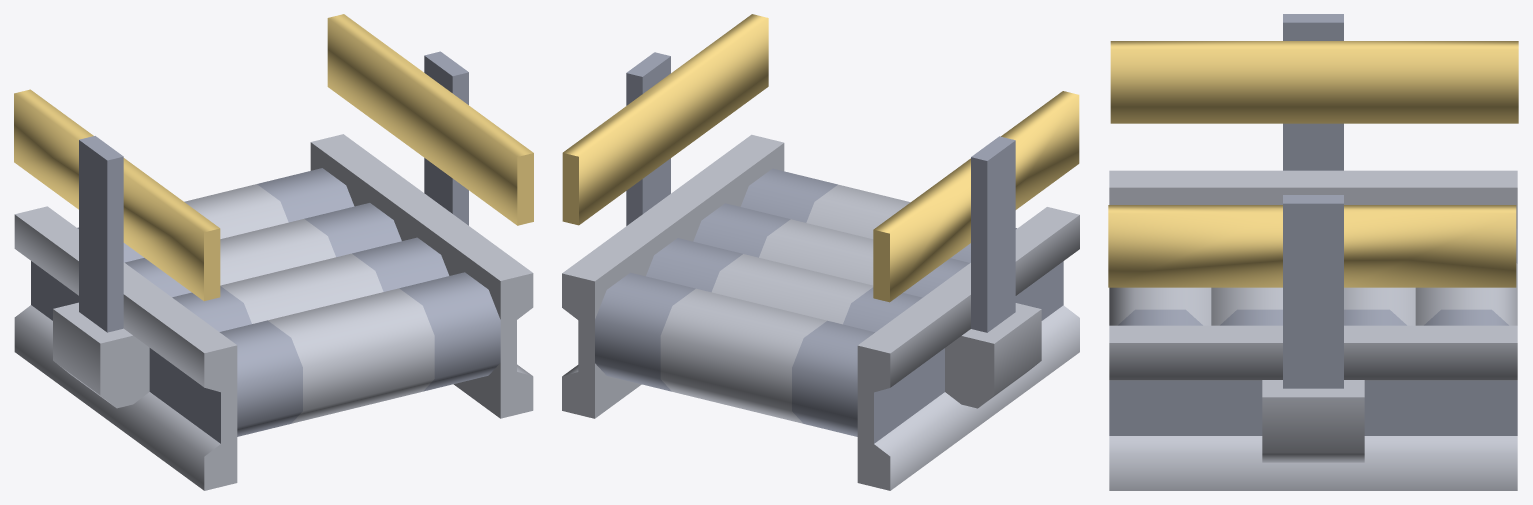
Rendered from conveyor-bars-stripe-fence.fbx.
3 views of the same model, side by side, from view 1: azimuth 30°, elevation 25°; view 2: azimuth 150°, elevation 25°; view 3: azimuth 270°, elevation 25° (orthographic). The views are drawn at different scales.
Parts seen in each view (by area): view 1: Group.009, Group.007, Group.008; view 2: Group.009, Group.007, Group.008; view 3: Group.007, Group.008, Group.009.
Part boxes in pixels (x1,y1,x2,y2): Group.009: (77,168,500,436); Group.007: (14,14,533,408); Group.008: (14,134,533,490); Group.009: (595,168,1016,436); Group.007: (562,14,1079,408); Group.008: (562,134,1079,490); Group.007: (1108,14,1518,462); Group.008: (1109,170,1517,490); Group.009: (1109,228,1517,325).
Bounding box in the file's own units: 120 × 80 × 101.
